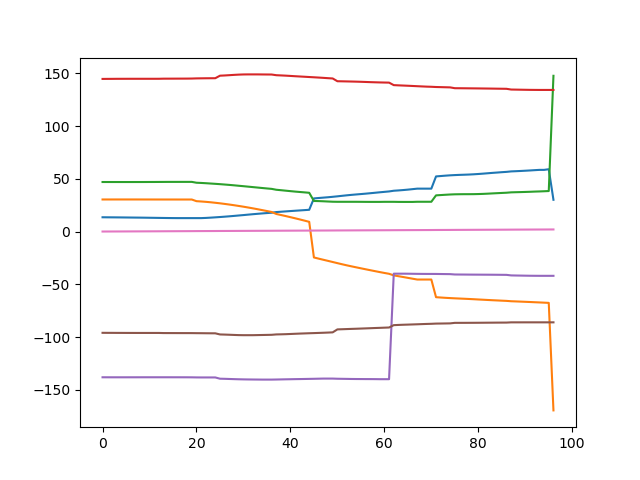Good_Bicep_Curl: (3, 2, 640, 480)
